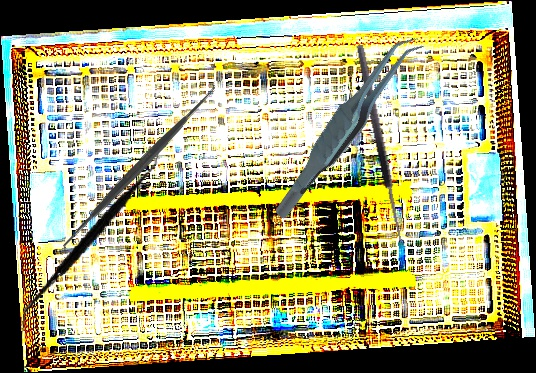Hook Surgical: (354, 42, 416, 246)
Spatula Surgical: (51, 78, 226, 259), (21, 132, 161, 347)
Tissue Forceps: (241, 29, 453, 222)
